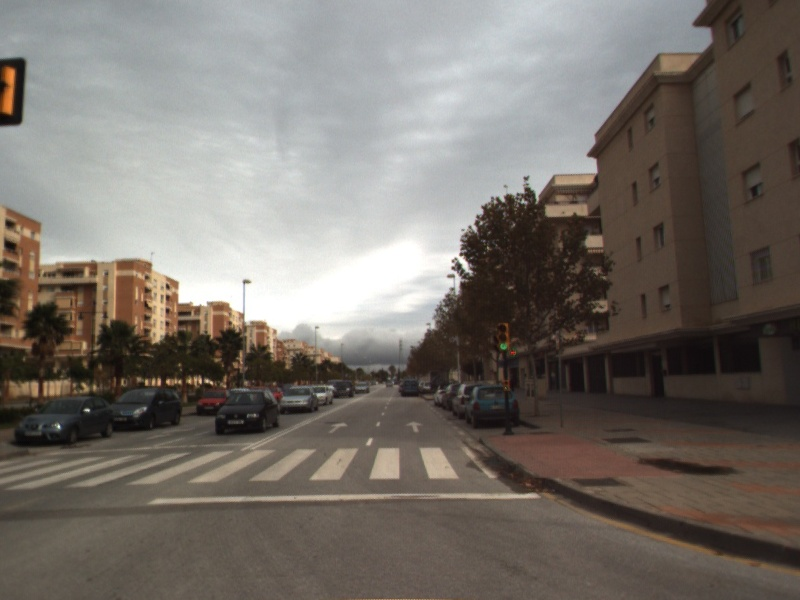STRAIGHT: (326, 420, 350, 435), (404, 419, 426, 434)
